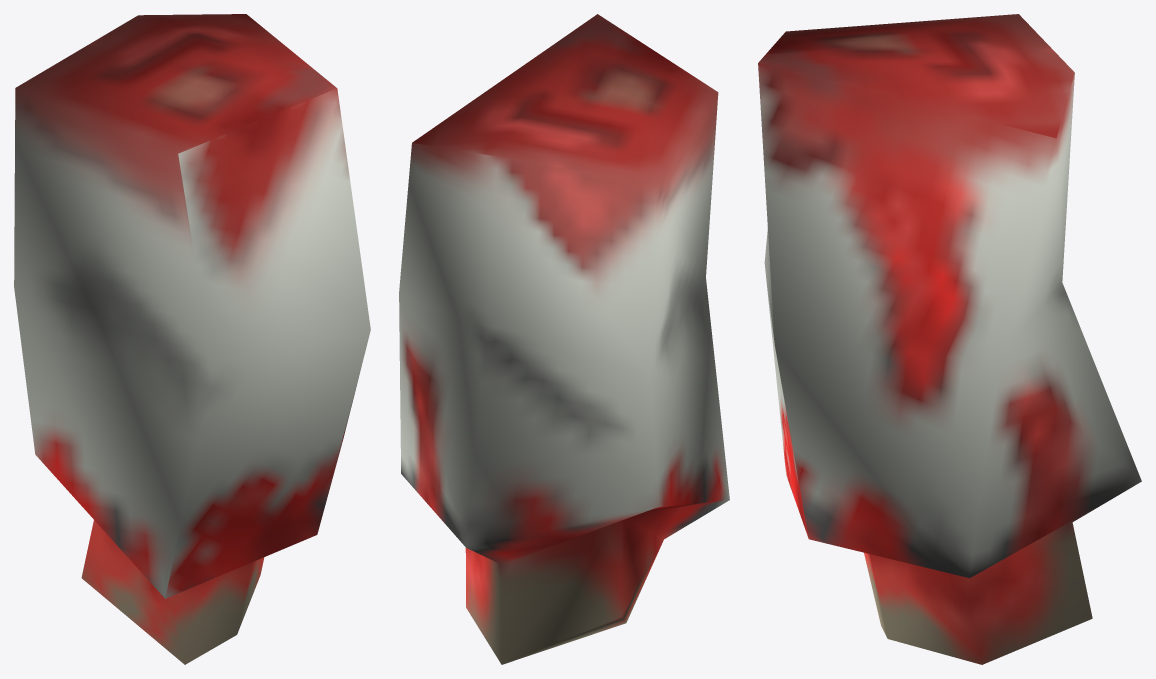
Rendered from GibsModel.fbx.
The picture shows the model from 3 angles, left to right: view 1: azimuth 30°, elevation 25°; view 2: azimuth 150°, elevation 25°; view 3: azimuth 270°, elevation 25°; orthographic projection. The views are drawn at different scales.
Parts seen in each view (by area): view 1: Gibs; view 2: Gibs; view 3: Gibs.
Boxes of the visible parts, box(x1,y1,x2,y2) form: Gibs: box(14, 14, 370, 664); Gibs: box(399, 14, 729, 664); Gibs: box(758, 14, 1141, 664).
Bounding box in the file's own units: 0.2821 × 0.5304 × 0.3033.
Materials: 1 (1 with a texture image).
